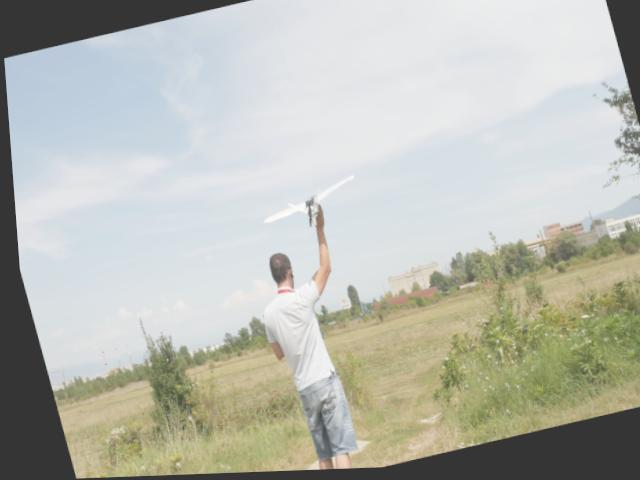plane: (252, 175, 365, 241)
